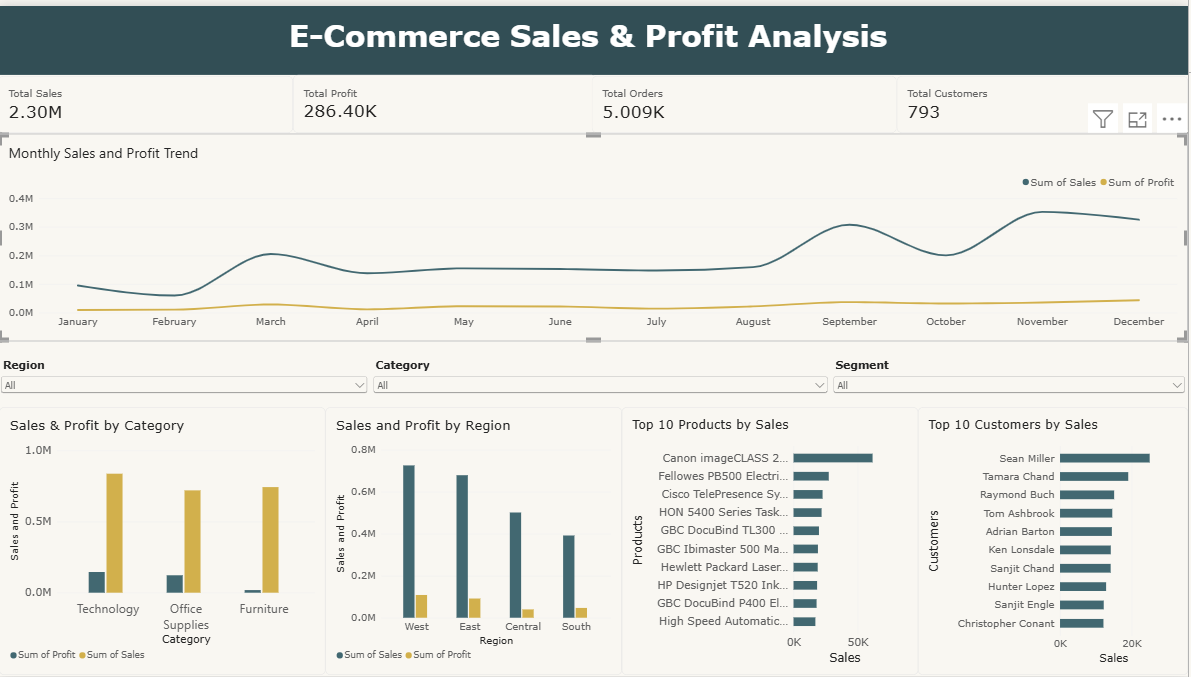

The page's visual inventory and layout, read from the dashboard file:
{"tool":"powerbi","page":{"name":"E-commerce Analysis Dashboard","canvas":[1920,1080],"ordinal":0},"visuals":[{"type":"textbox","box":[0,0,1920.4,111.1],"z":0},{"type":"cardVisual","title":"Total Sales","fields":{"Data":["Sum(Sales Data.Sales)"]},"box":[0,113,476.1,92.8],"z":1000},{"type":"cardVisual","fields":{"Data":["Sum(Sales Data.Profit)"]},"box":[476.1,110.9,490.2,94.8],"z":2000},{"type":"cardVisual","fields":{"Data":["Count(Sales Data.Customer_ID)"]},"box":[1450.4,113,470,92.8],"z":3000},{"type":"cardVisual","fields":{"Data":["Count(Sales Data. Order_ID)"]},"box":[958.2,113,492.2,92.8],"z":4000},{"type":"lineChart","title":"Monthly Sales and Profit Trend","fields":{"Category":["Sales Data.Order_Date.Variation.Date Hierarchy.Month"],"Y":["Sum(Sales Data.Sales)","Sum(Sales Data.Profit)"]},"box":[0,205.8,1920.4,334.9],"z":5000},{"type":"clusteredColumnChart","title":"Sales & Profit by Category","fields":{"Category":["Sales Data.Category"],"Y":["Sum(Sales Data.Profit)","Sum(Sales Data.Sales)"]},"box":[2,647.5,526.5,431.7],"z":6000},{"type":"clusteredColumnChart","title":"Sales and Profit by Region","fields":{"Category":["Sales Data.Region"],"Y":["Sum(Sales Data.Sales)","Sum(Sales Data.Profit)"]},"box":[528.5,647.5,478.1,431.7],"z":7000},{"type":"clusteredBarChart","title":"Top 10 Products by Sales","fields":{"Category":["Sales Data.Product_Name"],"Y":["Sum(Sales Data.Sales)"]},"box":[1006.6,647.5,478.1,431.7],"z":8000},{"type":"clusteredBarChart","title":"Top 10 Customers by Sales","fields":{"Category":["Sales Data.Customer_Name"],"Y":["Sum(Sales Data.Sales)"]},"box":[1484.7,647.5,435.7,431.7],"z":9000},{"type":"slicer","fields":{"Values":["Sales Data.Region"]},"box":[0,568.9,601.1,78.7],"z":10000},{"type":"slicer","fields":{"Values":["Sales Data.Category"]},"box":[601.1,568.9,742.3,78.7],"z":11000},{"type":"slicer","fields":{"Values":["Sales Data.Segment"]},"box":[1343.5,568.9,576.9,78.7],"z":12000}]}

Visuals, with their boxes in screenshot pixels (x1, y1, x2, y2), scaled from the page's 1920x1080 canvas onto the 1191x677 screenshot:
textbox: {"x1": 0, "y1": 0, "x2": 1190, "y2": 70}
"Total Sales" cardVisual: {"x1": 0, "y1": 71, "x2": 295, "y2": 129}
cardVisual - Sum(Sales Data.Profit): {"x1": 295, "y1": 70, "x2": 599, "y2": 129}
cardVisual - Count(Sales Data.Customer_ID): {"x1": 900, "y1": 71, "x2": 1190, "y2": 129}
cardVisual - Count(Sales Data. Order_ID): {"x1": 594, "y1": 71, "x2": 900, "y2": 129}
"Monthly Sales and Profit Trend" lineChart: {"x1": 0, "y1": 129, "x2": 1190, "y2": 339}
"Sales & Profit by Category" clusteredColumnChart: {"x1": 1, "y1": 406, "x2": 328, "y2": 676}
"Sales and Profit by Region" clusteredColumnChart: {"x1": 328, "y1": 406, "x2": 624, "y2": 676}
"Top 10 Products by Sales" clusteredBarChart: {"x1": 624, "y1": 406, "x2": 921, "y2": 676}
"Top 10 Customers by Sales" clusteredBarChart: {"x1": 921, "y1": 406, "x2": 1190, "y2": 676}
slicer - Sales Data.Region: {"x1": 0, "y1": 357, "x2": 373, "y2": 406}
slicer - Sales Data.Category: {"x1": 373, "y1": 357, "x2": 833, "y2": 406}
slicer - Sales Data.Segment: {"x1": 833, "y1": 357, "x2": 1190, "y2": 406}
